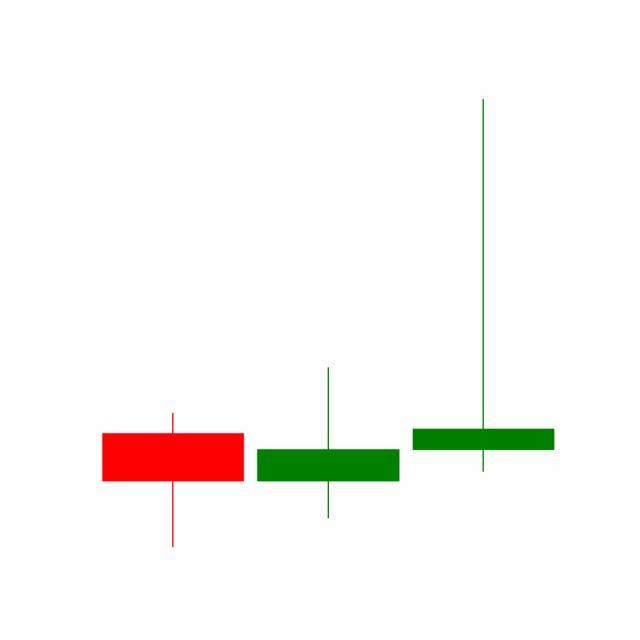Spinning Top: (405, 94, 561, 475)
